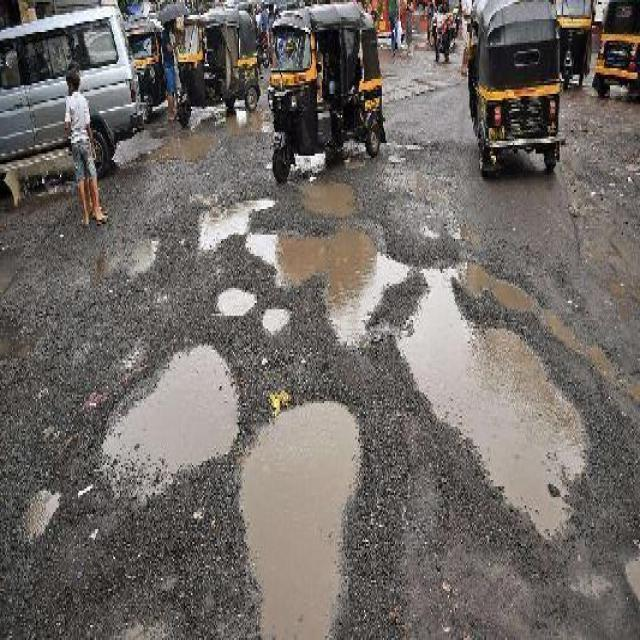buraco: (397, 243, 597, 540), (400, 257, 601, 534), (234, 401, 364, 636), (242, 392, 366, 638), (100, 337, 242, 499), (239, 218, 414, 346), (245, 226, 408, 350), (107, 343, 240, 484), (195, 190, 278, 252), (194, 193, 273, 256), (298, 175, 360, 220), (17, 480, 62, 540), (296, 179, 358, 220), (22, 487, 61, 542), (214, 279, 257, 316), (216, 282, 253, 312), (262, 303, 294, 331), (263, 305, 288, 331)
